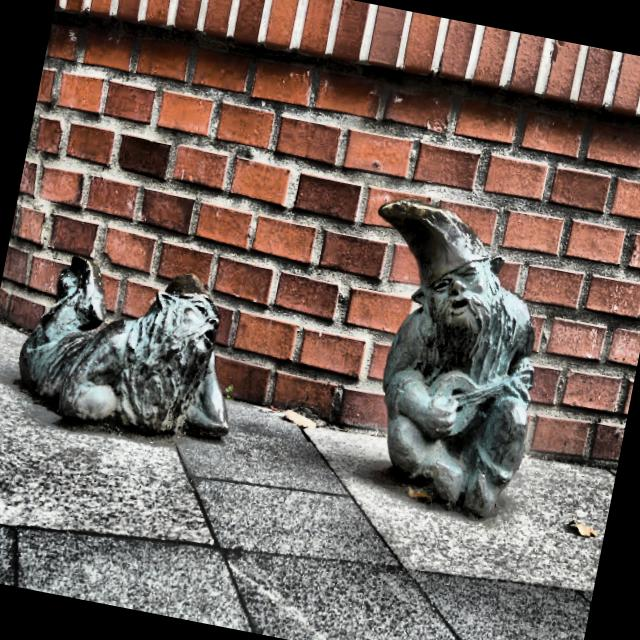Grajek_i_Meloman: (19, 198, 532, 521)
